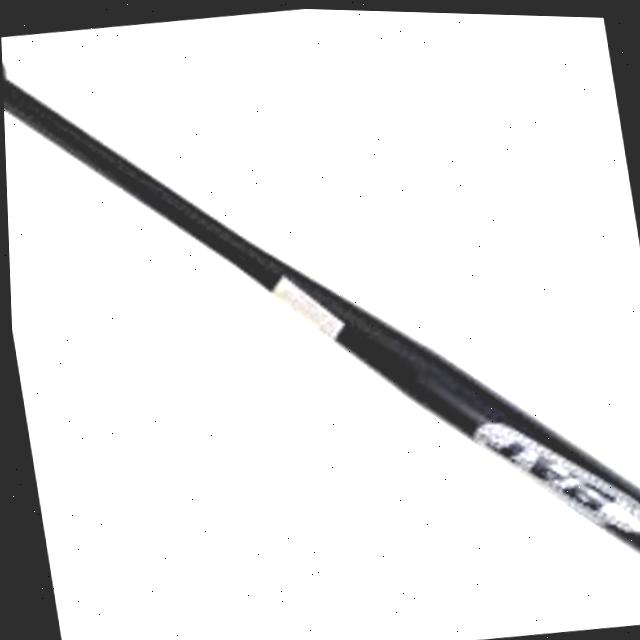baseball bat: (2, 65, 640, 566)
